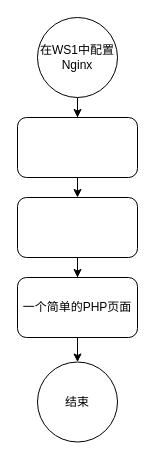
The diagram is 155 pixels wide and 460 high, and some of its shapes have lost their labels. Here are the shapes that lost their labels. From the top down, the centre of each, then its label:
At point 77,147: "安装配置Nginx".
At point 77,227: "安装配置PHP".
